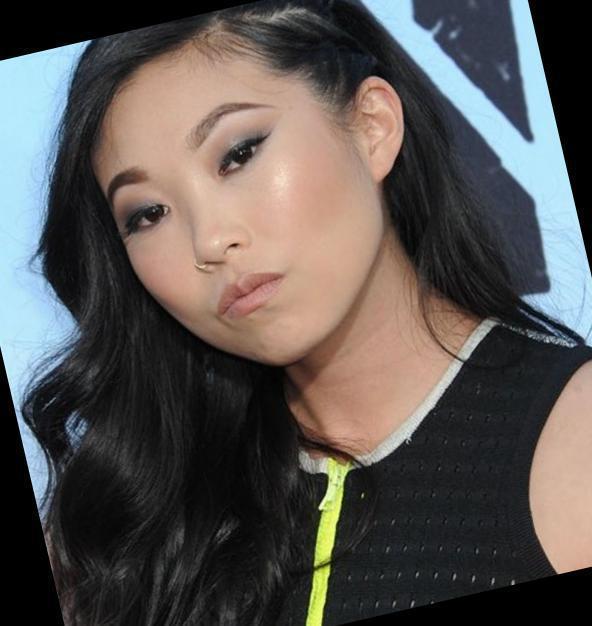Sober: (99, 67, 382, 373)
